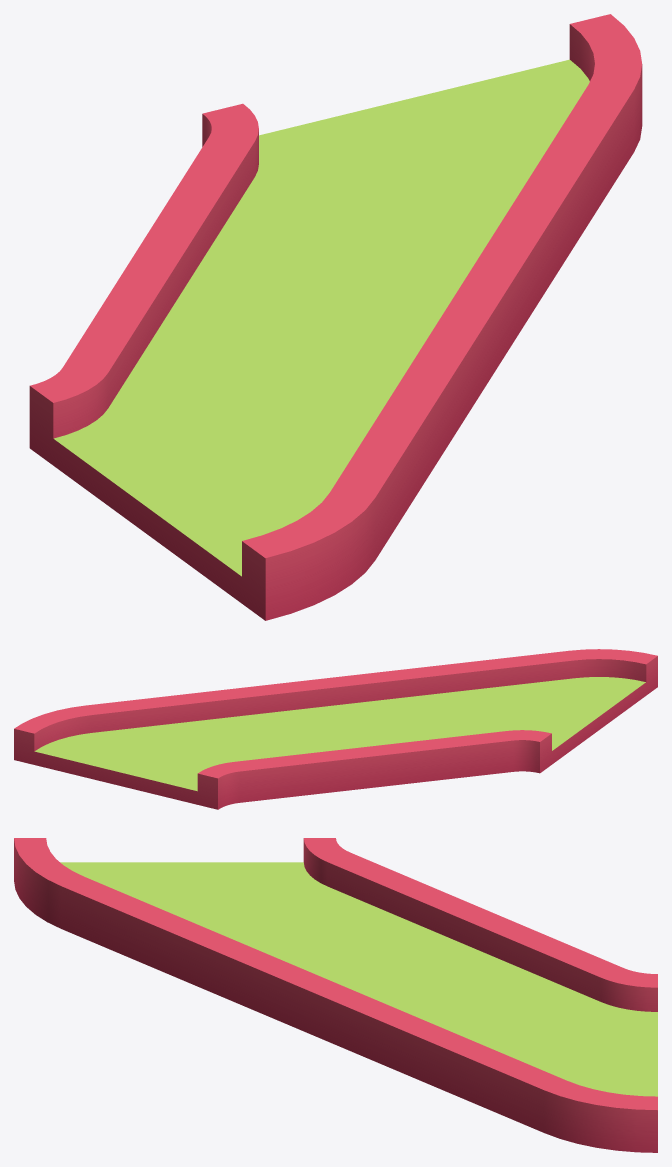
The model's file is skew-large-corner.fbx.
3 renders of one model, top to bottom at view 1: azimuth 30°, elevation 25°; view 2: azimuth 150°, elevation 25°; view 3: azimuth 270°, elevation 25°, orthographic. The views are drawn at different scales.
Parts seen in each view (by area): view 1: skew_large_corner; view 2: skew_large_corner; view 3: skew_large_corner.
Boxes of the visible parts, <box> form: skew_large_corner: <box>29,14,642,620</box>; skew_large_corner: <box>14,649,657,809</box>; skew_large_corner: <box>14,838,657,1152</box>.
Bounding box in the file's own units: 200 × 14.67 × 200.
Materials: 1 (1 with a texture image).
